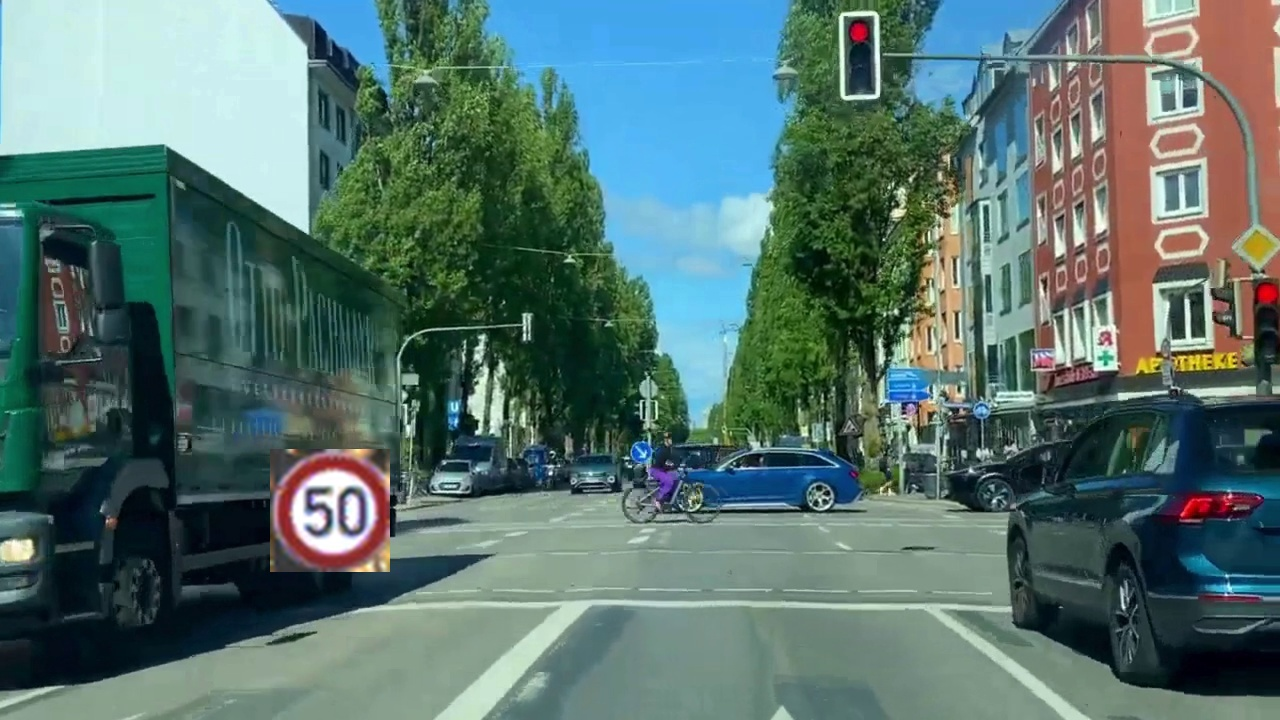Speed 50: (270, 449, 390, 572)
